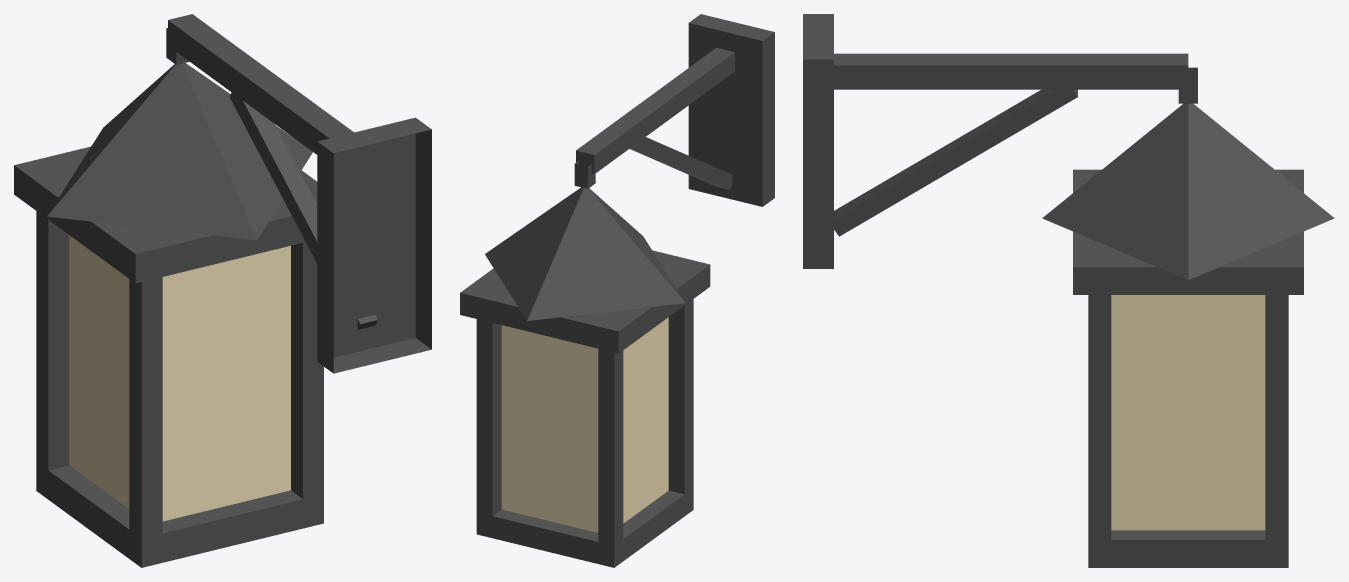
Rendered from SM_BM_BP_WallLantern.glb.
3 renders of one model, left to right at view 1: azimuth 30°, elevation 25°; view 2: azimuth 150°, elevation 25°; view 3: azimuth 270°, elevation 25°, orthographic. The views are drawn at different scales.
Parts seen in each view (by area): view 1: SM_BM_BP_WallLantern; view 2: SM_BM_BP_WallLantern; view 3: SM_BM_BP_WallLantern.
Part boxes in pixels (x1,y1,x2,y2): SM_BM_BP_WallLantern: [14, 14, 431, 567]; SM_BM_BP_WallLantern: [460, 14, 774, 567]; SM_BM_BP_WallLantern: [803, 14, 1334, 567].
Bounding box in the file's own units: 0.38 × 0.7 × 0.69.
